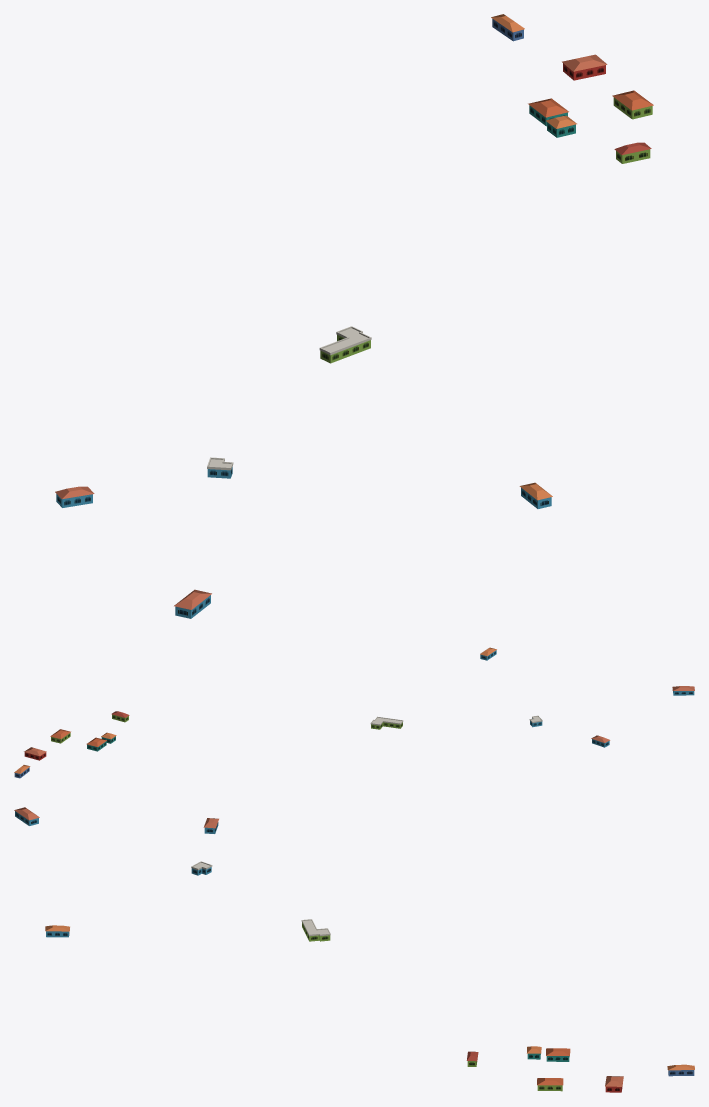
File: msb_oranjestad_m20_m3.glb
3 views of the same model, one above another, from view 1: azimuth 30°, elevation 25°; view 2: azimuth 150°, elevation 25°; view 3: azimuth 270°, elevation 25° (orthographic). The views are drawn at different scales.
Visible parts, largest first — view 1: msb_oranjestad_m20_m3_lod0; view 2: msb_oranjestad_m20_m3_lod0; view 3: msb_oranjestad_m20_m3_lod0.
Part boxes in pixels (x1,y1,x2,y2): msb_oranjestad_m20_m3_lod0: (55, 14, 653, 618); msb_oranjestad_m20_m3_lod0: (14, 647, 694, 778); msb_oranjestad_m20_m3_lod0: (14, 807, 694, 1092).
Size of what is drawn, in the model's own units: 338 by 9.06 by 348.
Materials: 3 (1 with a texture image).
